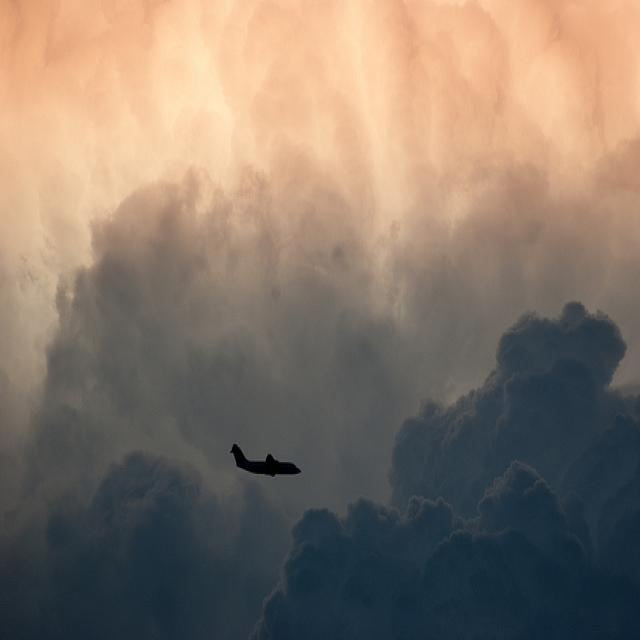airplane: (228, 442, 304, 479)
